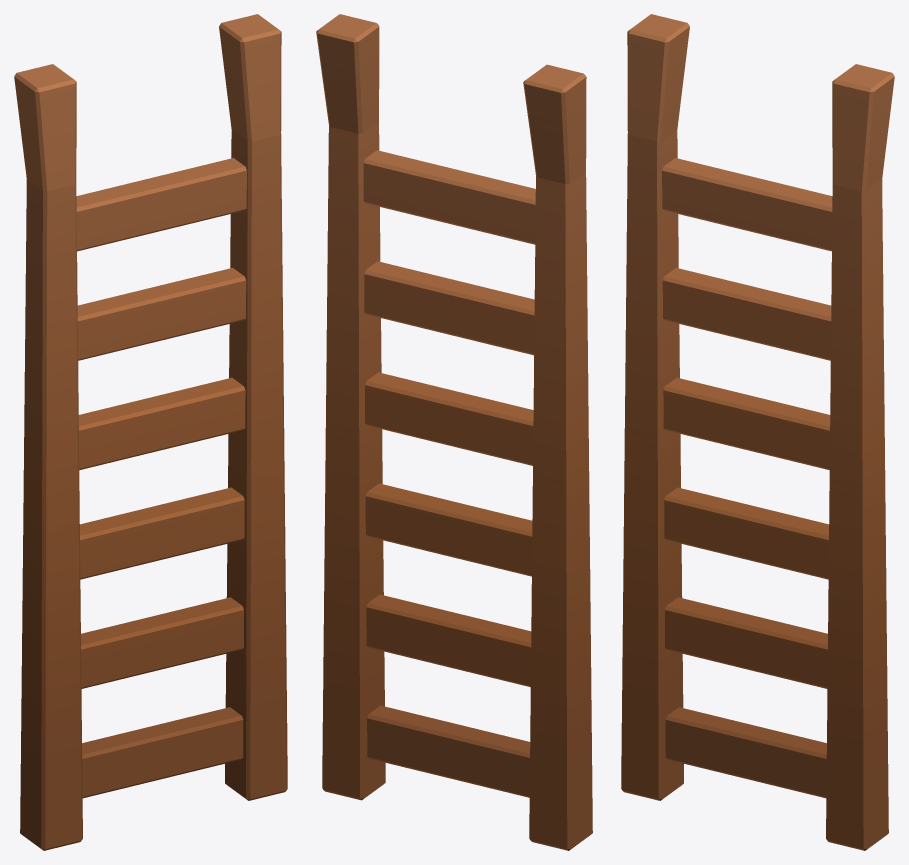
File: Ladder.fbx
3 renders of one model, left to right at view 1: azimuth 30°, elevation 25°; view 2: azimuth 150°, elevation 25°; view 3: azimuth 330°, elevation 25°, orthographic.
Parts seen in each view (by area): view 1: Ladder; view 2: Ladder; view 3: Ladder.
Boxes of the visible parts, x1=… form: Ladder: x1=14, y1=14, x2=287, y2=850; Ladder: x1=316, y1=14, x2=592, y2=850; Ladder: x1=621, y1=14, x2=894, y2=850.
Size of the model in its own units: 79.72 by 234 by 16.93.
